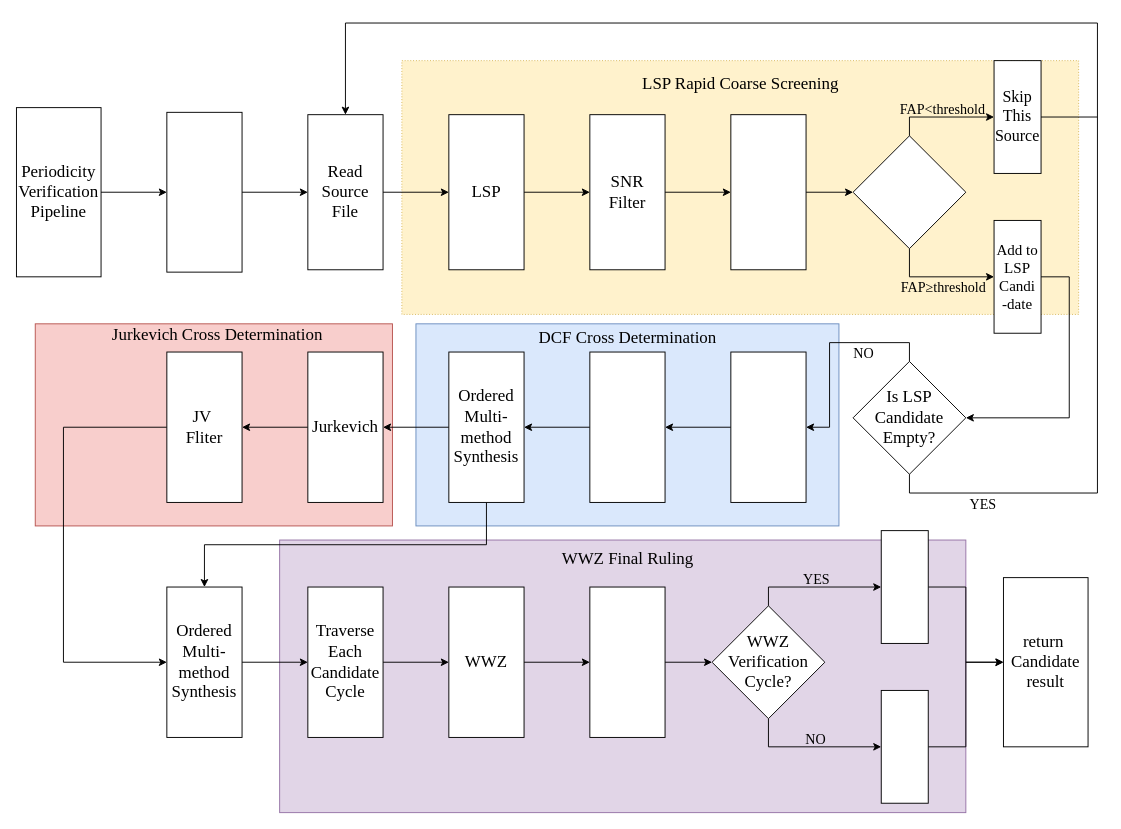
Image size: 1121x829. Some labels were removed from this diagram. Each missing label, with the box of its shape:
Add un veri -fied cycle: (880, 689, 928, 803)
Add verifica -tion success cycle: (880, 530, 928, 643)
Calculate FAP Value: (730, 114, 806, 270)
DCF: (730, 351, 806, 502)
DCF Filter: (589, 351, 665, 502)
FAP Filter: (852, 135, 966, 249)
Load config file: (166, 111, 242, 272)
WWZ Ridge Tracking: (589, 586, 665, 737)
